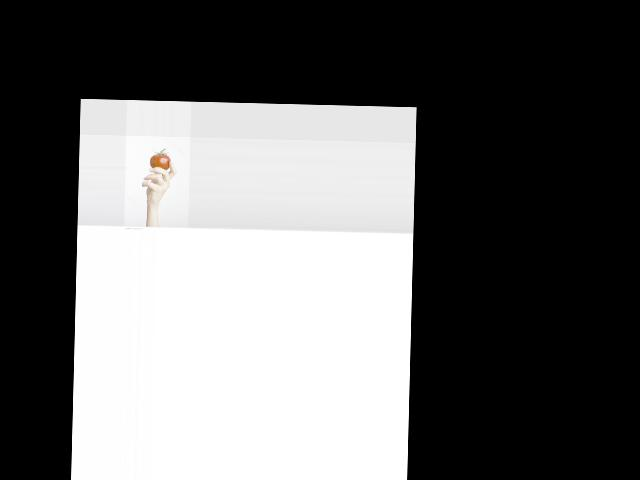tomato: (149, 147, 170, 169)
